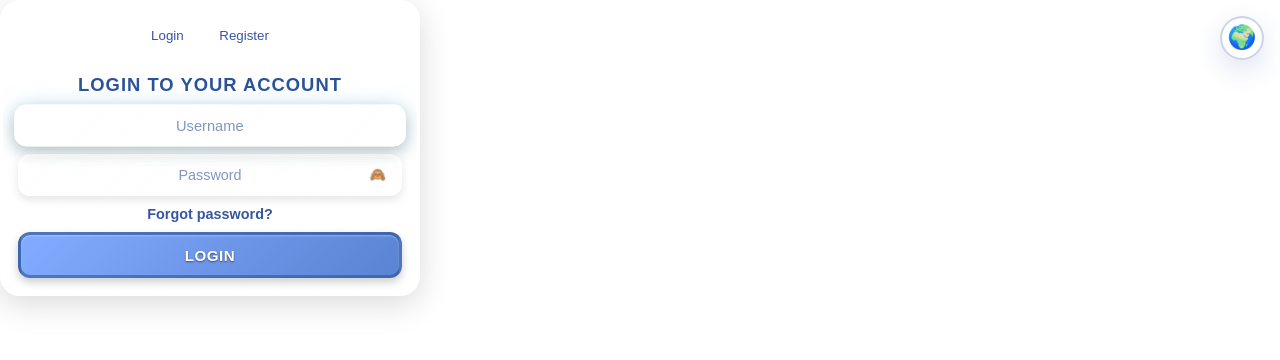
Test: AuthMenu › shows server unavailable when login request throws
The width and height of the screenshot is (1280, 360).
Type "Titi" into the field with placeholder "Username" at {"x": 210, "y": 126}, box [14, 105, 406, 147]
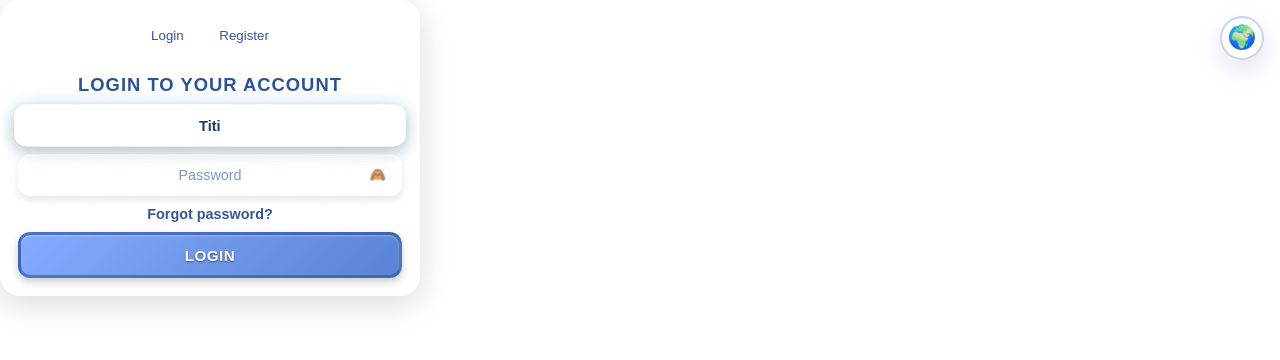
Type "Secret123!" into the password field with placeholder "Password" at {"x": 210, "y": 175}, box [18, 154, 402, 196]
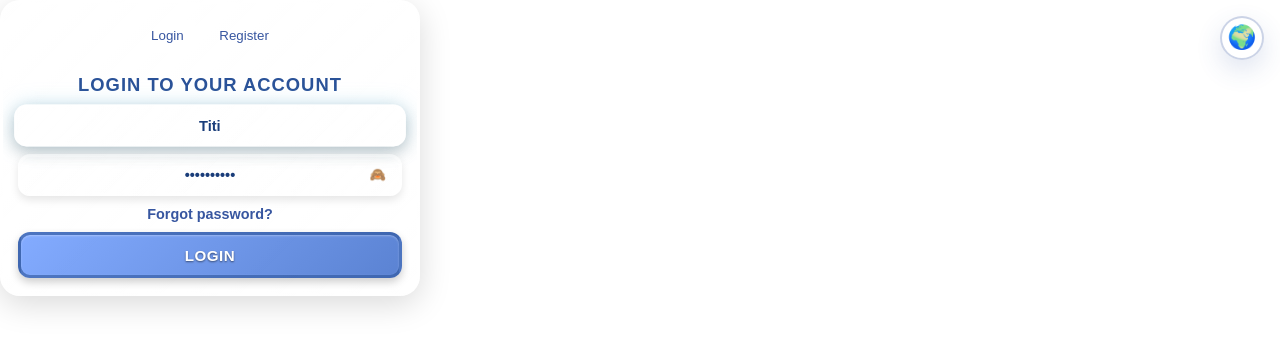
Click the button with class "submit-button" at {"x": 210, "y": 255}, box [18, 232, 402, 278]
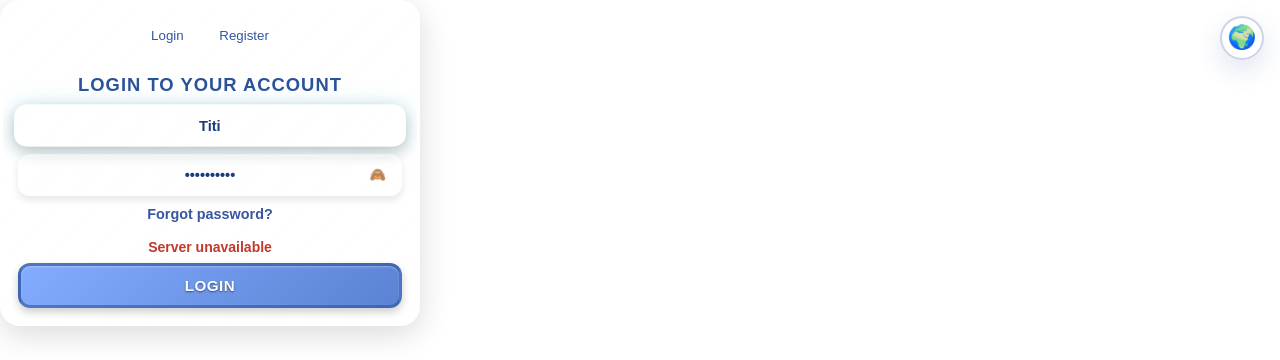
Now the text "Server unavailable" is shown, box [148, 239, 272, 255]
